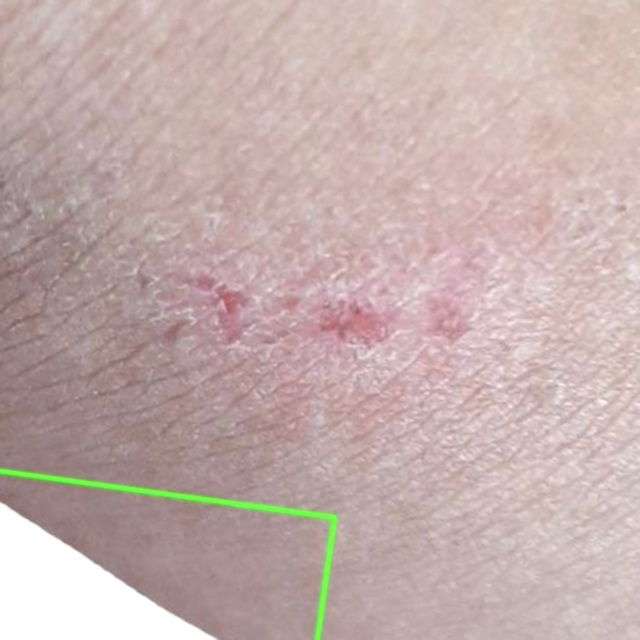Scabies: (0, 470, 335, 639)
